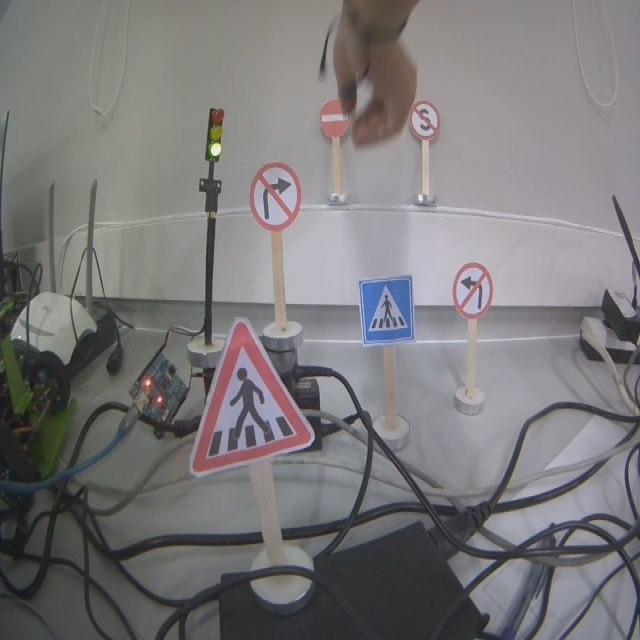Dilarang Belok Kanan: (250, 163, 301, 229)
Dilarang Belok Kiri: (453, 262, 493, 318)
Dilarang Masuk: (319, 98, 351, 138)
Lampu Hijau: (205, 108, 224, 161)
Rambu Berhenti: (410, 100, 441, 140)
Rambu Penyebrangan: (190, 319, 313, 473), (357, 275, 415, 345)
